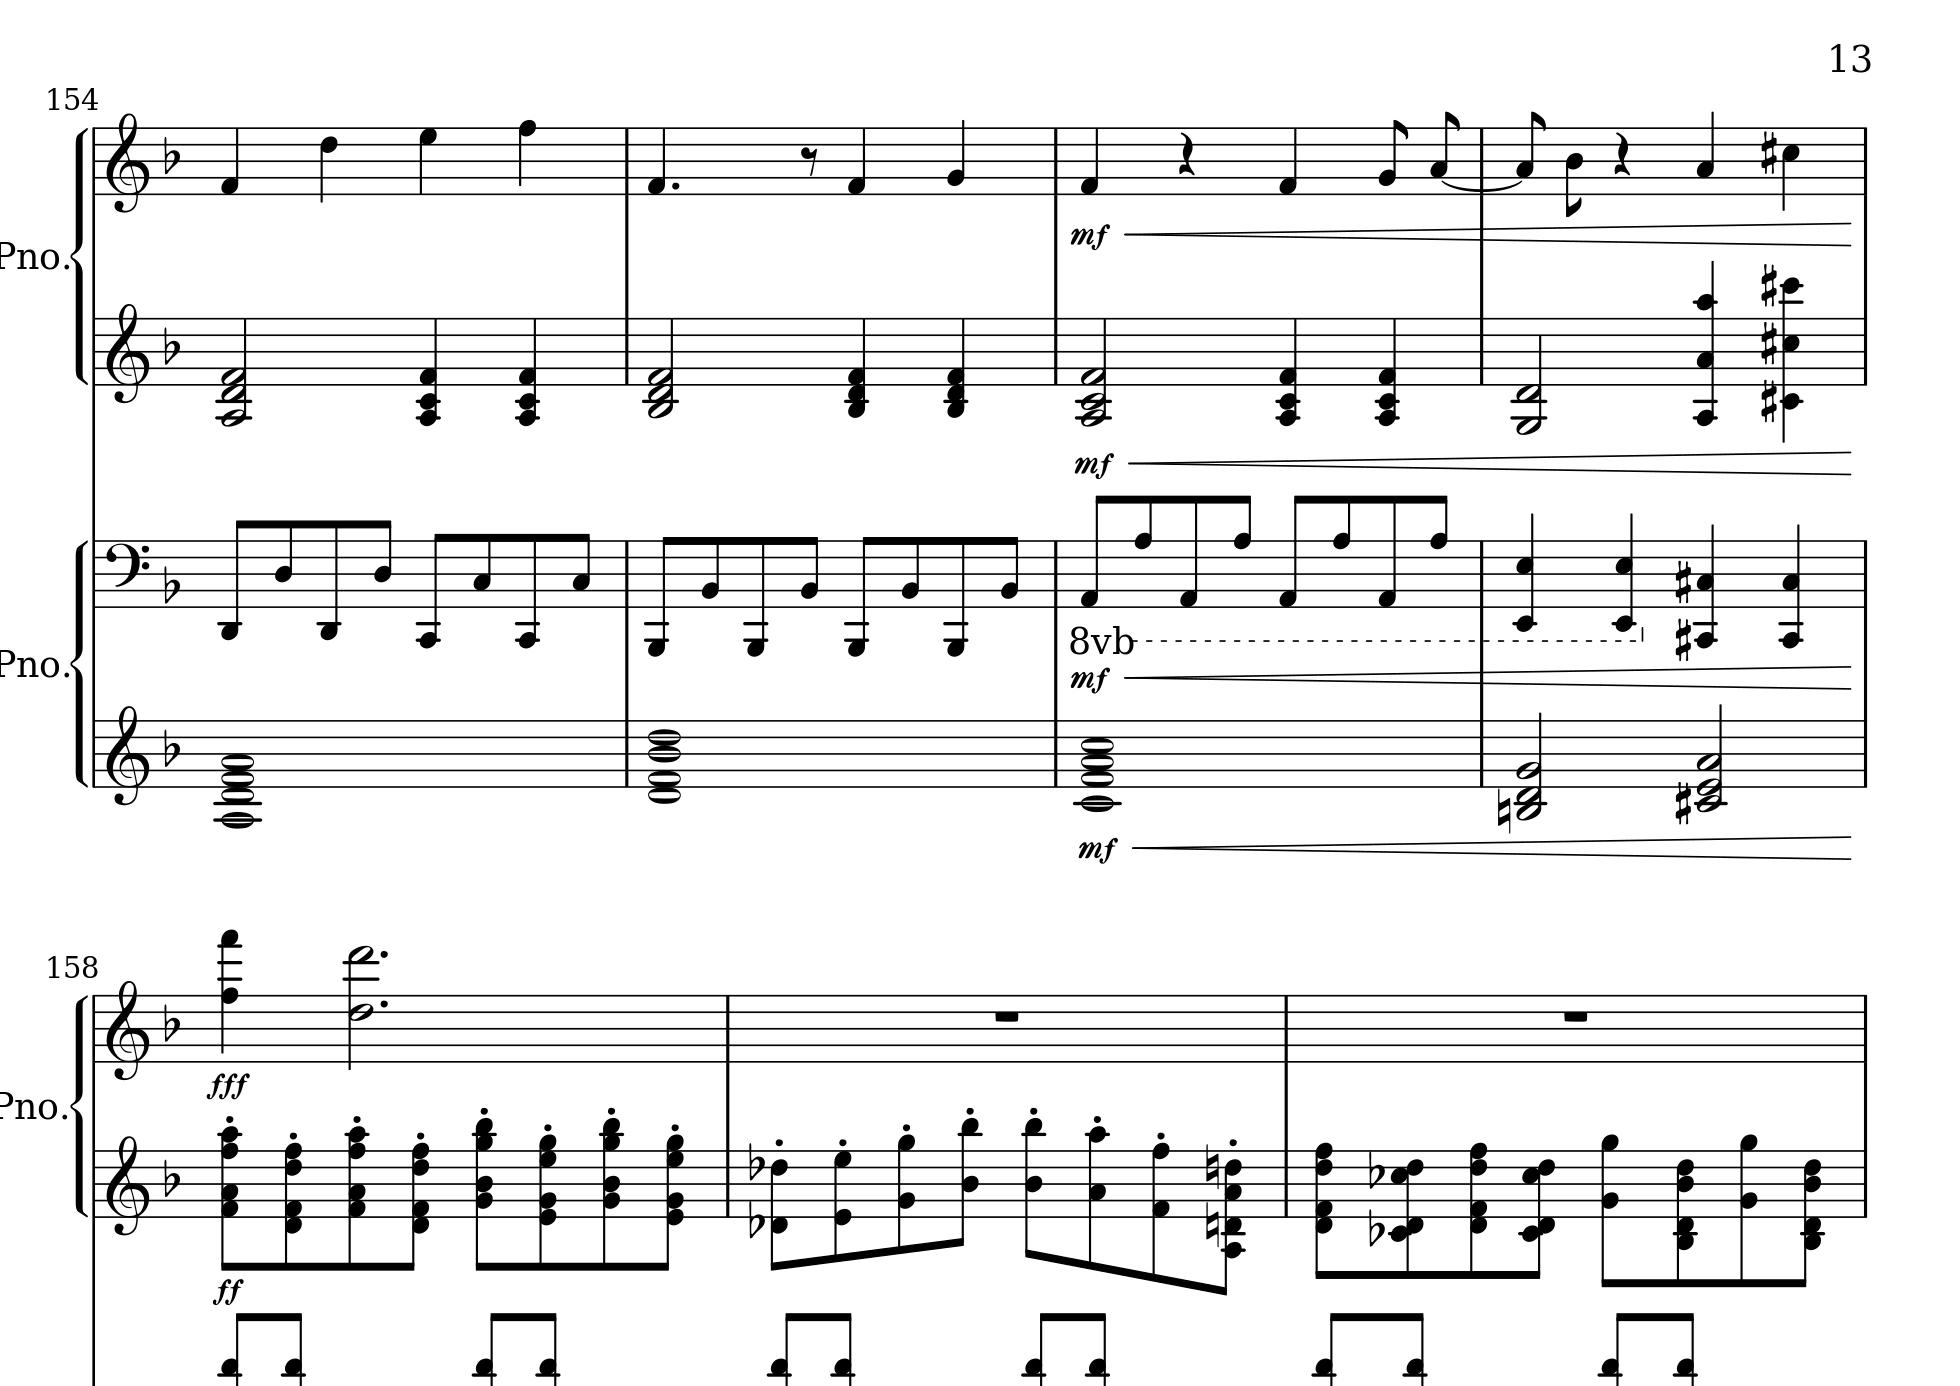1: (1830, 40, 1846, 75), (46, 952, 60, 981), (46, 85, 60, 112)
1_4th: (211, 717, 262, 831), (1072, 718, 1123, 813), (645, 715, 684, 805)
2_-5_-1: (1512, 316, 1549, 438)
2_th: (1077, 313, 1116, 429), (216, 316, 255, 429), (643, 316, 682, 418), (1515, 709, 1548, 823), (1696, 700, 1729, 814)
3: (1851, 40, 1872, 75)
4: (81, 85, 100, 112)
4_-2_5: (1513, 511, 1537, 634), (1612, 511, 1636, 634)
4_-4_3: (1695, 525, 1720, 649), (1779, 523, 1803, 649)
4_1: (844, 126, 868, 196), (219, 124, 241, 195), (646, 126, 667, 196), (1080, 126, 1101, 196), (1278, 126, 1299, 196)
4_2: (945, 117, 967, 196)
4_3: (1695, 109, 1717, 196)
4_5: (1780, 124, 1801, 211)
4_6: (318, 124, 340, 205)
4_6_13: (343, 943, 376, 1072)
4_7: (417, 126, 439, 196)
4_8: (516, 117, 538, 196)
4_8_15: (217, 928, 241, 1063)
4_th: (1692, 259, 1722, 426), (1777, 271, 1806, 441), (1273, 316, 1303, 427), (1372, 316, 1401, 429), (414, 316, 442, 427), (513, 316, 541, 427), (843, 316, 871, 418), (942, 316, 969, 418)
5: (63, 952, 79, 979), (64, 84, 79, 112)
8: (79, 951, 99, 979)
8_-1_6: (769, 1149, 789, 1273)
8_-3: (217, 517, 253, 640), (316, 517, 343, 640)
8_-4: (415, 529, 448, 648), (514, 531, 541, 649)
8_-5: (841, 532, 879, 657), (643, 534, 678, 655), (742, 532, 771, 657), (943, 534, 970, 657)
8_0_7: (831, 1147, 853, 1264)
8_1: (1275, 492, 1314, 610), (1077, 492, 1110, 610), (1176, 492, 1203, 610), (1374, 493, 1401, 610)
8_1_8: (1150, 1141, 1170, 1285)
8_2: (1377, 117, 1408, 195), (798, 532, 822, 609), (999, 534, 1023, 610), (900, 534, 922, 610), (699, 534, 721, 609)
8_2_9: (1737, 1132, 1758, 1288), (1600, 1131, 1620, 1288), (895, 1134, 916, 1258)
8_3: (1515, 109, 1546, 196), (1428, 109, 1459, 195), (471, 531, 493, 610), (571, 529, 591, 607)
8_3_10: (1084, 1125, 1110, 1273)
8_4: (271, 517, 295, 609), (370, 517, 394, 609), (1563, 126, 1585, 219)
8_4_11: (949, 1117, 982, 1249), (1020, 1116, 1044, 1263)
8_4th: (1518, 1147, 1558, 1279), (1389, 1147, 1428, 1281), (1215, 1147, 1246, 1296), (1791, 1147, 1824, 1288), (654, 1131, 687, 1270), (399, 1140, 433, 1270), (471, 1116, 496, 1273), (343, 1123, 370, 1270), (598, 1119, 624, 1269), (1672, 1147, 1699, 1288), (217, 1123, 243, 1270), (535, 1129, 561, 1270), (1468, 1140, 1491, 1279), (282, 1140, 304, 1270), (1314, 1141, 1335, 1278)
8_8: (1132, 493, 1156, 610), (1330, 493, 1354, 610), (1231, 493, 1254, 610), (1428, 493, 1449, 610)
Brace: (67, 534, 90, 789), (69, 123, 90, 385), (69, 991, 90, 1215)
Crescendo_hairpin: (1129, 448, 1851, 481), (1125, 220, 1852, 252), (1122, 663, 1854, 693)
Fclef: (103, 538, 148, 609)
Flat: (160, 133, 181, 175), (160, 324, 181, 364), (160, 726, 181, 766), (162, 562, 181, 604), (160, 1000, 180, 1042), (160, 1156, 180, 1198), (745, 1140, 765, 1182), (1366, 1149, 1386, 1189), (745, 1198, 763, 1240), (1368, 1207, 1386, 1249)
Gclef: (103, 109, 150, 214), (103, 301, 150, 405), (103, 1132, 148, 1237), (103, 702, 148, 805), (105, 976, 150, 1080)
Natural: (1203, 1198, 1221, 1251), (1203, 1141, 1221, 1189), (1497, 784, 1512, 835)
Pno: (1, 645, 61, 682), (1, 238, 61, 271), (1, 1087, 58, 1122)
Rests1: (990, 1006, 1024, 1024), (1560, 1006, 1593, 1024)
Rests4: (1611, 129, 1632, 177), (1176, 130, 1197, 177)
Rests8: (799, 144, 820, 177)
Sharp: (1758, 319, 1780, 367), (1672, 556, 1695, 604), (1758, 261, 1779, 309), (1758, 376, 1779, 424), (1759, 127, 1779, 177), (1674, 615, 1693, 663), (1674, 778, 1693, 826)
Single_barline: (1045, 316, 1068, 385), (616, 127, 637, 193), (1047, 127, 1068, 193), (616, 316, 636, 385), (1047, 540, 1066, 607), (1473, 316, 1491, 385), (618, 538, 636, 607), (1047, 718, 1065, 787), (1857, 127, 1875, 195), (1473, 540, 1491, 607), (1473, 720, 1491, 786), (718, 994, 736, 1060), (1278, 994, 1296, 1060), (1855, 1150, 1873, 1216), (87, 538, 103, 607), (87, 127, 103, 195), (1857, 540, 1873, 607), (1855, 720, 1872, 787), (619, 718, 636, 784), (1857, 994, 1873, 1060), (87, 996, 103, 1062), (1278, 1149, 1294, 1215), (1473, 127, 1489, 190), (1857, 318, 1872, 387), (88, 318, 103, 385), (720, 1149, 735, 1215), (88, 718, 102, 787), (88, 1150, 102, 1216)
Slur: (1443, 178, 1522, 190)
dot: (378, 996, 391, 1009), (669, 178, 681, 192), (378, 946, 388, 960)
ff: (211, 1273, 247, 1308)
fff: (204, 1069, 252, 1102)
mf: (1068, 220, 1113, 253), (1077, 832, 1119, 867), (1074, 448, 1116, 481), (1069, 664, 1111, 696)
